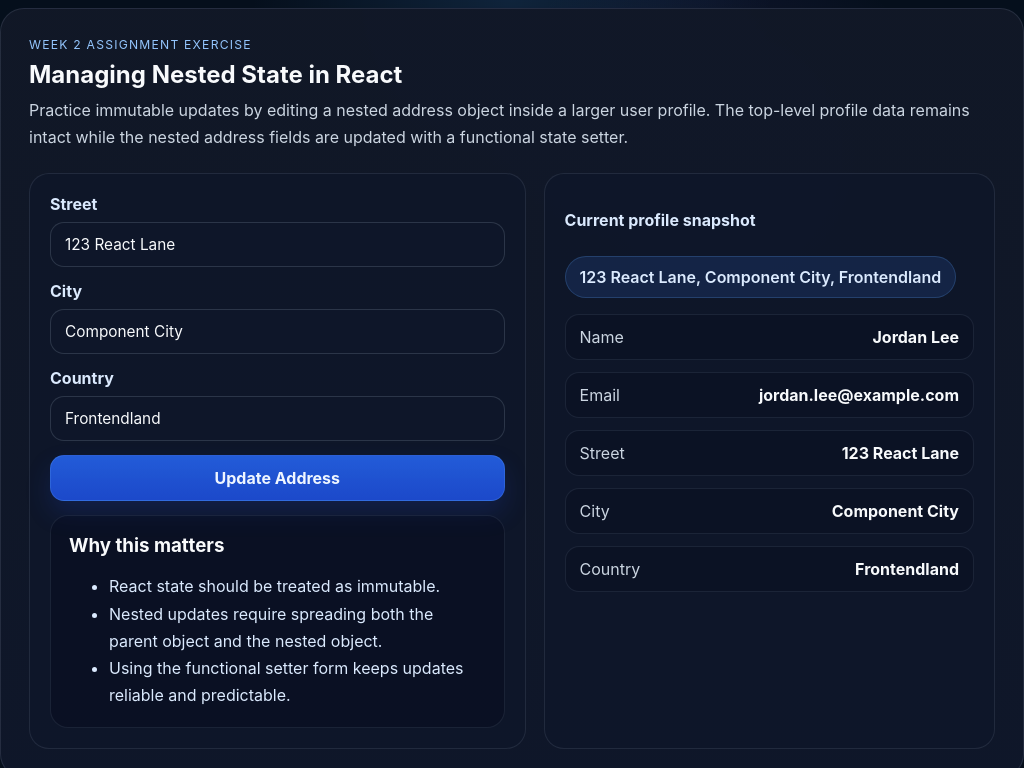
Test case: UserProfile standalone exercise › edge: repeated updates replace the nested address with the latest values
The width and height of the screenshot is (1024, 768).
Replace the text in the field with test id "street-input" with "111 First Pass": (277, 245) [50,222,505,267]
Replace the text in the field with test id "city-input" with "Draft City": (277, 332) [50,309,505,354]
Replace the text in the field with test id "country-input" with "Version One": (277, 419) [50,396,505,441]
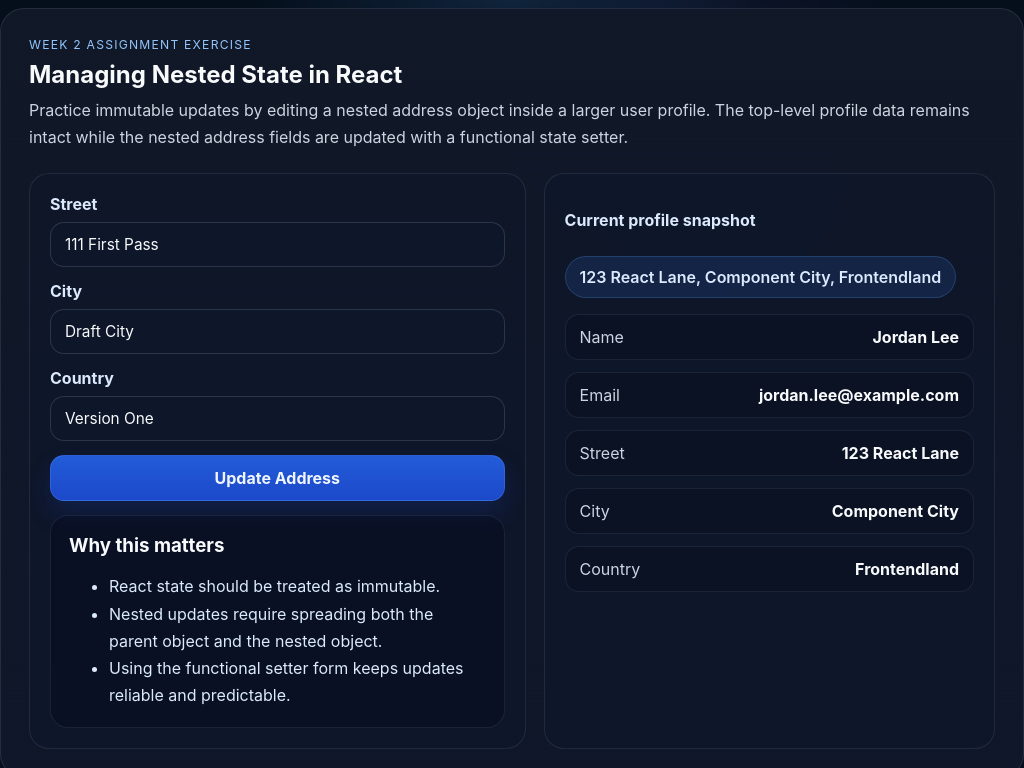
Click the button "Update Address": (277, 478) [50,455,505,501]
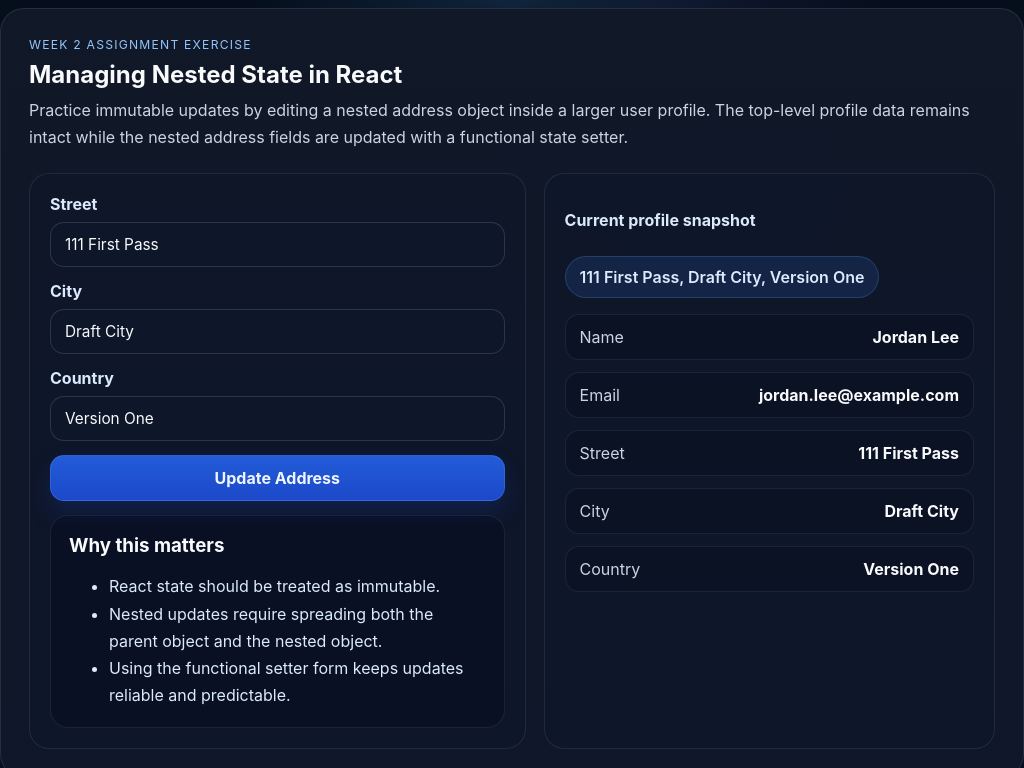
Replace the text in the field with test id "street-input" with "222 Final Pass": (277, 245) [50,222,505,267]
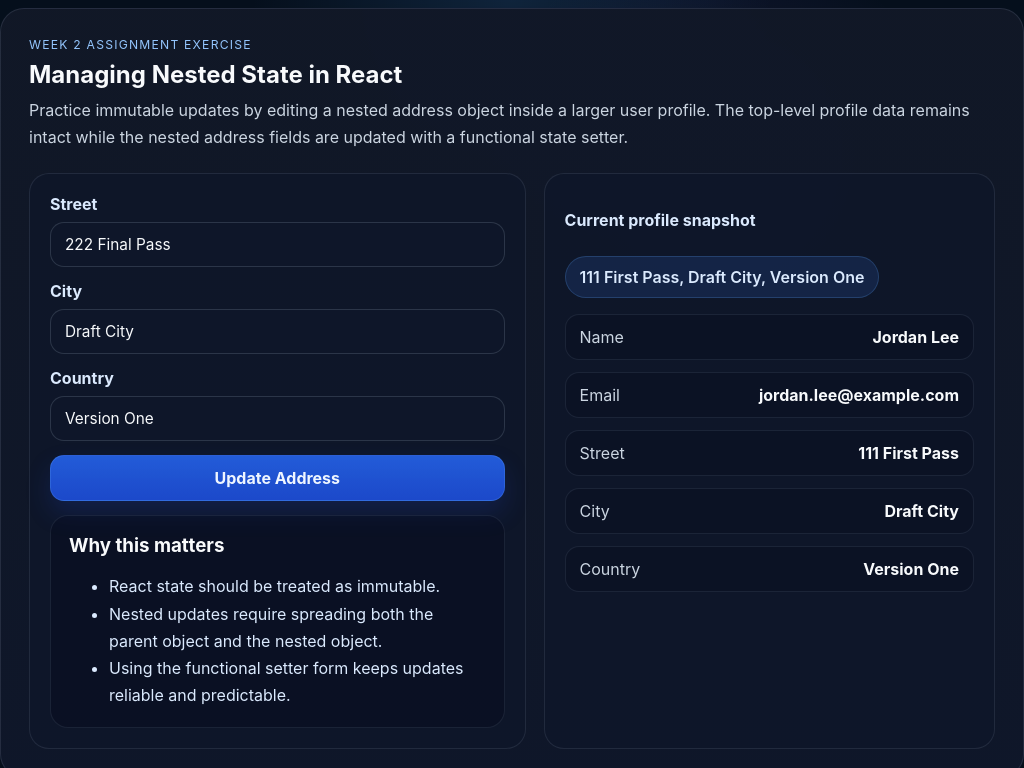
Replace the text in the field with test id "city-input" with "Release Town": (277, 332) [50,309,505,354]
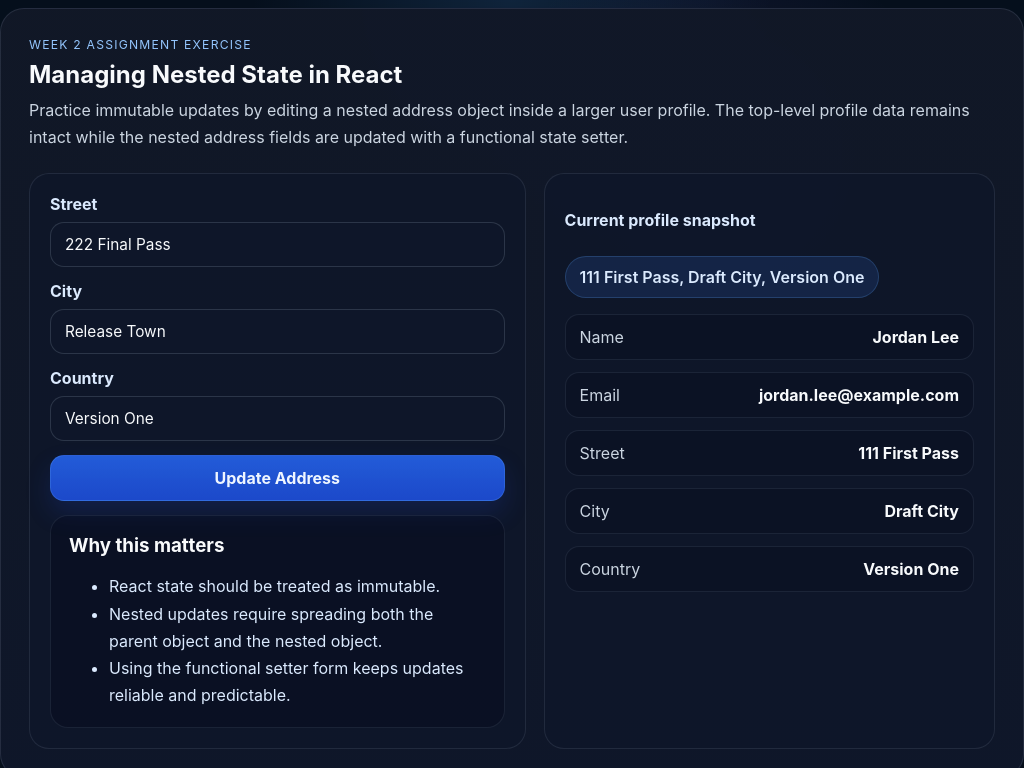
Replace the text in the field with test id "country-input" with "Version Two": (277, 419) [50,396,505,441]
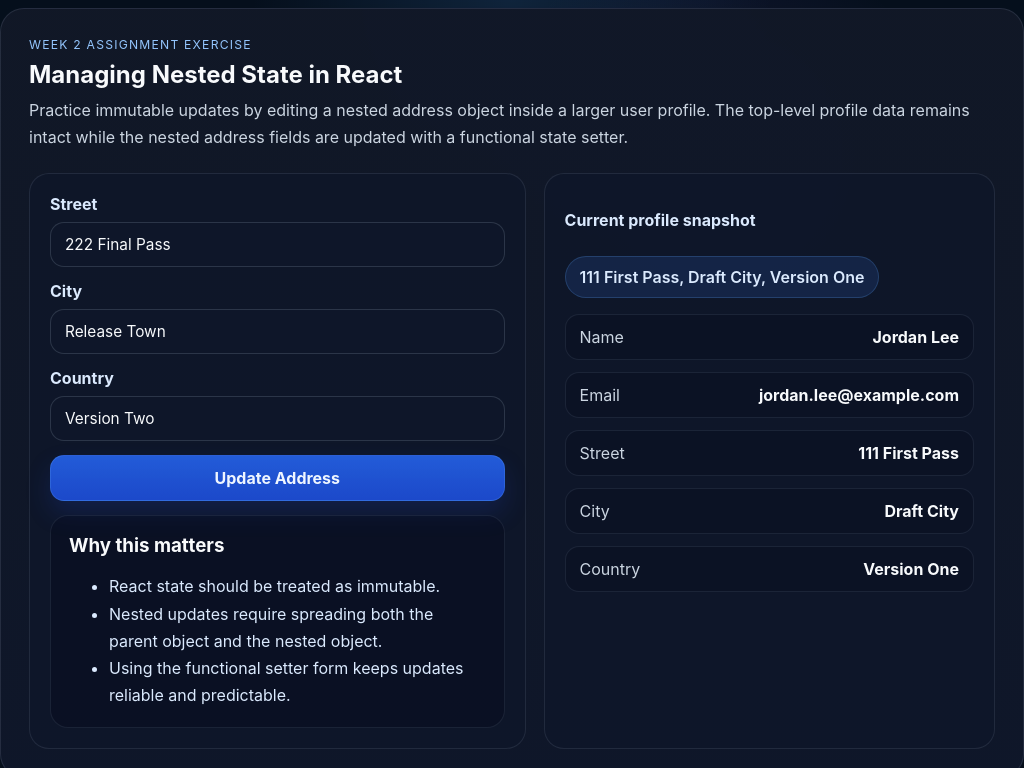
Click the button "Update Address": (277, 478) [50,455,505,501]
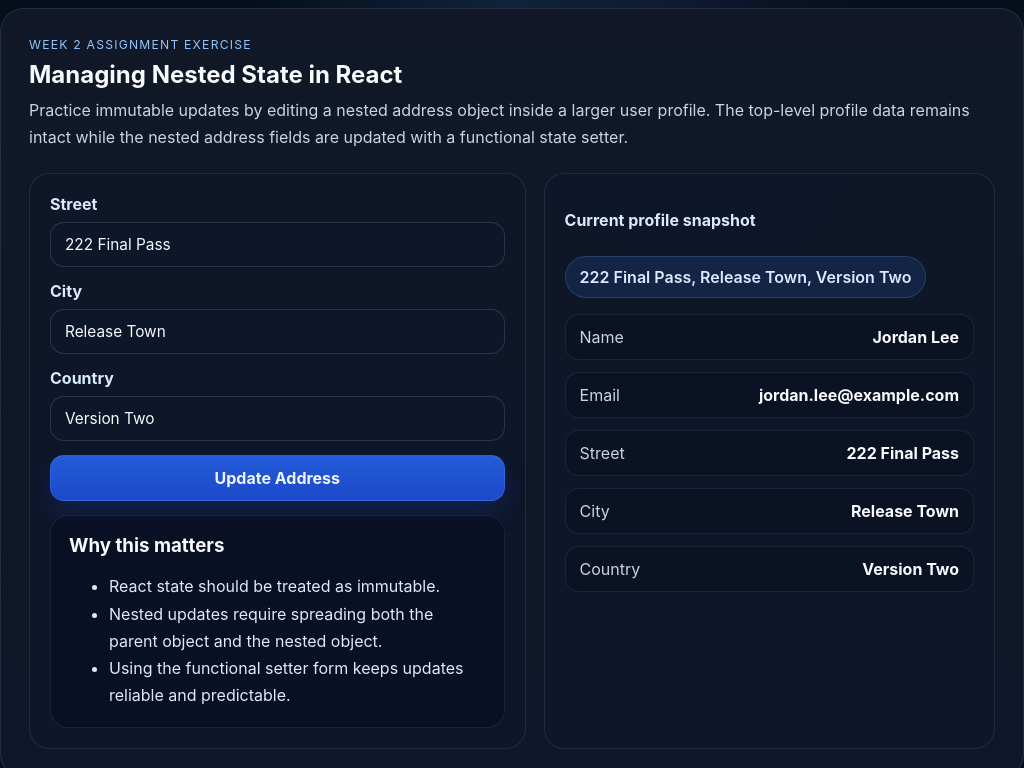
Expected: the text with test id "profile-street" reads "222 Final Pass", [846,443,959,463]
Expected: the text with test id "profile-city" reads "Release Town", [851,501,959,521]
Expected: the text with test id "profile-country" reads "Version Two", [862,559,959,579]
